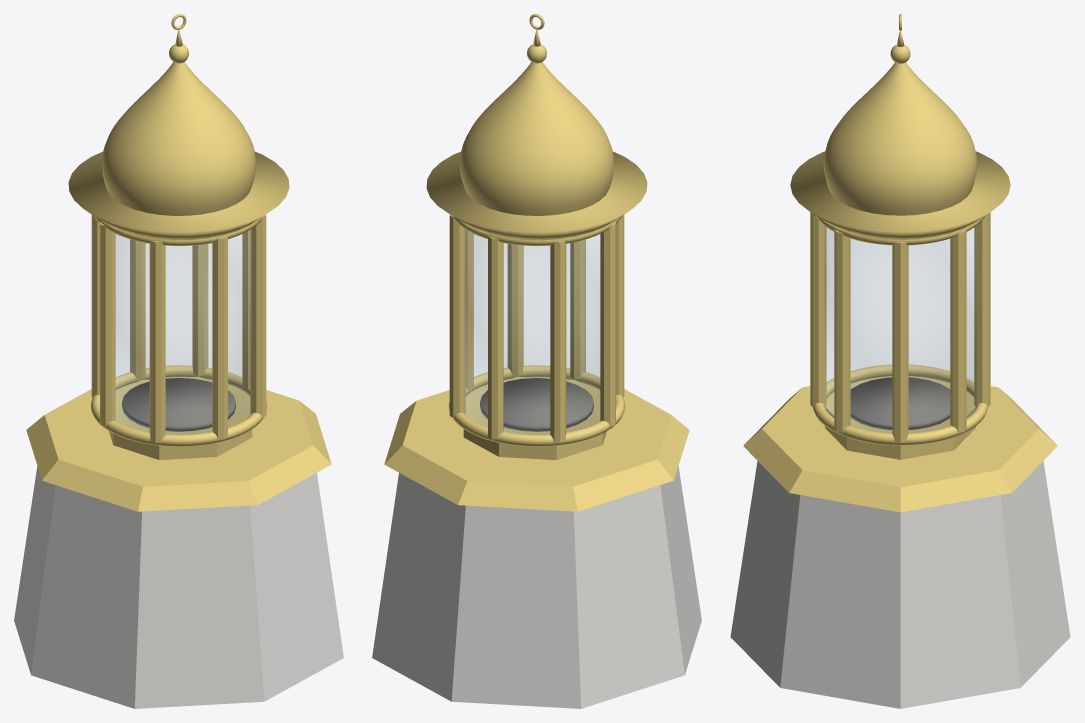
The model's file is maqamibrahimfixedV1.fbx.
The picture shows the model from 3 angles, left to right: view 1: azimuth 30°, elevation 25°; view 2: azimuth 150°, elevation 25°; view 3: azimuth 270°, elevation 25°; orthographic projection.
Visible parts, largest first — view 1: Base, Base_Kornis, Kaca, Kubah, Kornis, Batu_Maqam, Kolom_06, Kolom_08, Kolom_07, Drum, Kolom_05, Cincin_Bawah (+5 smaller); view 2: Base, Base_Kornis, Kaca, Kubah, Kornis, Batu_Maqam, Kolom_04, Kolom_02, Kolom_03, Drum, Kolom_05, Cincin_Bawah (+5 smaller); view 3: Base, Base_Kornis, Kaca, Kubah, Kornis, Batu_Maqam, Cincin_Bawah, Kolom_01, Kolom_02, Kolom_08, Kolom_03, Kolom_07 (+2 smaller).
Boxes of the visible parts, x1,y1,x2,y2 form: Base: (14,466,343,708); Base_Kornis: (26,377,331,511); Kaca: (115,230,250,434); Kubah: (102,62,255,215); Kornis: (68,151,289,240); Batu_Maqam: (122,378,235,431); Kolom_06: (149,240,165,442); Kolom_08: (250,214,266,417); Kolom_07: (212,236,227,439); Drum: (109,376,252,459); Kolom_05: (100,222,115,426); Cincin_Bawah: (91,365,266,446); Base: (372,466,701,708); Base_Kornis: (384,377,689,511); Kaca: (465,230,600,434); Kubah: (460,62,613,215); Kornis: (426,151,647,240); Batu_Maqam: (480,378,593,431); Kolom_04: (550,240,566,442); Kolom_02: (449,214,465,417); Kolom_03: (488,236,503,439); Drum: (463,376,606,459); Kolom_05: (600,222,615,426); Cincin_Bawah: (449,365,624,446); Base: (730,461,1070,708); Base_Kornis: (743,376,1057,512); Kaca: (824,226,976,432); Kubah: (823,62,977,215); Kornis: (790,151,1010,240); Batu_Maqam: (850,377,950,429); Cincin_Bawah: (813,364,987,445); Kolom_01: (892,242,908,442); Kolom_02: (950,229,966,432); Kolom_08: (834,229,850,432); Kolom_03: (974,212,990,406); Kolom_07: (810,212,826,406).
Size of the model in its own units: 10800 by 21810 by 10800.
